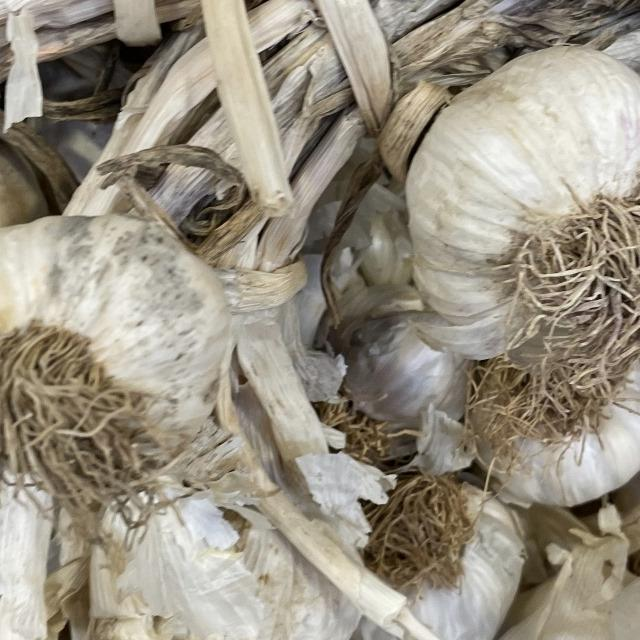garlic: (0, 155, 272, 517), (367, 5, 640, 342)
